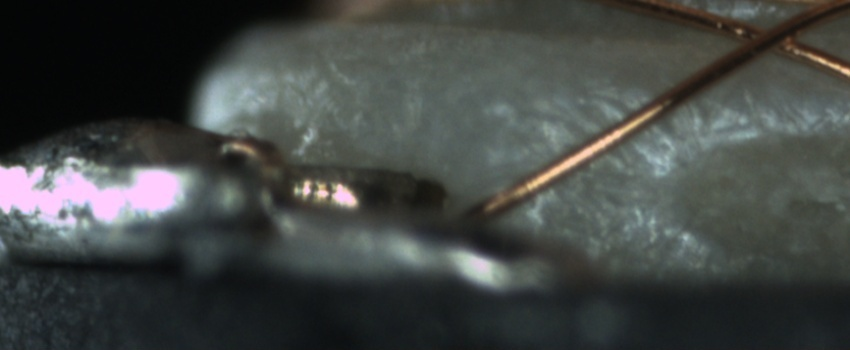CL: (726, 8, 823, 65)
DL: (498, 75, 849, 139)
TE: (219, 129, 291, 176)
